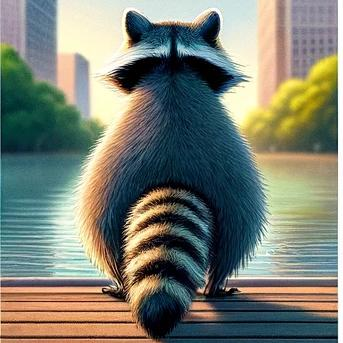raccoon: (61, 0, 279, 343)
